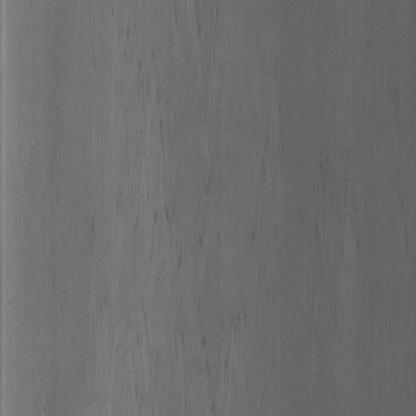silk_spot: (124, 38, 244, 405)
